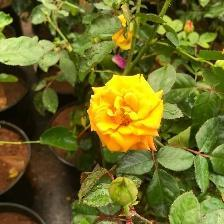rose: (88, 71, 169, 156)
